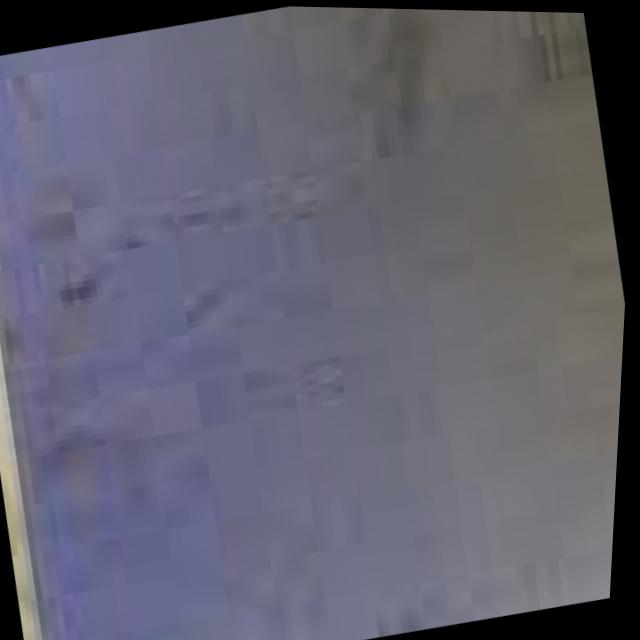metal-plates: (1, 6, 629, 640)
